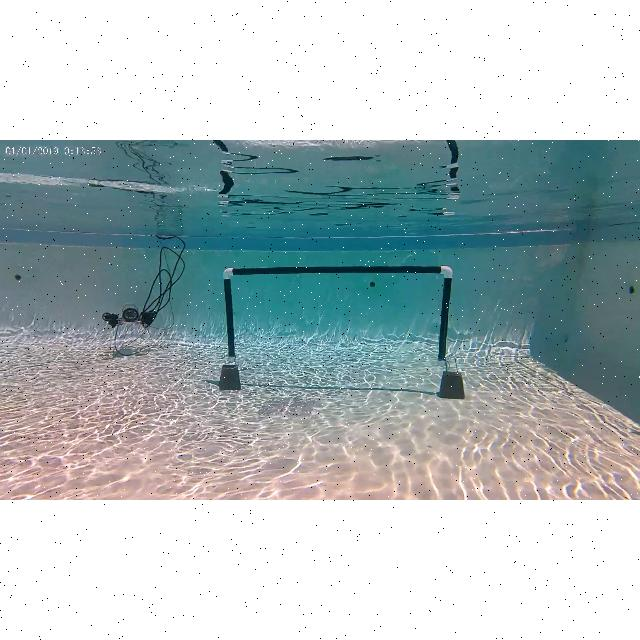prequal gate: (222, 263, 452, 365)
prequal gate leg l: (220, 265, 242, 373)
prequal gate leg r: (434, 261, 458, 367)
